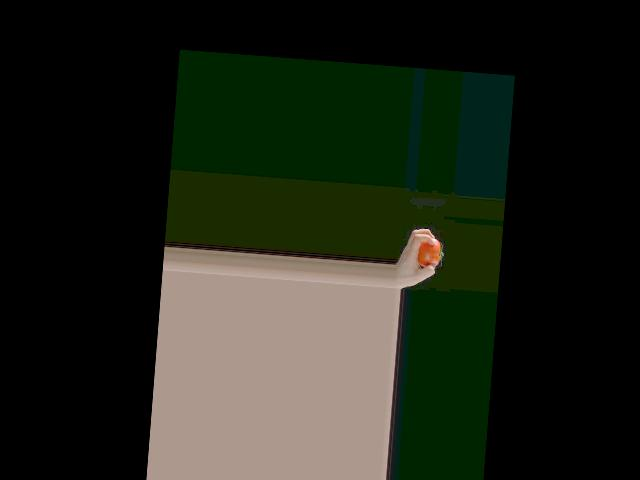tomato: (417, 237, 444, 268)
